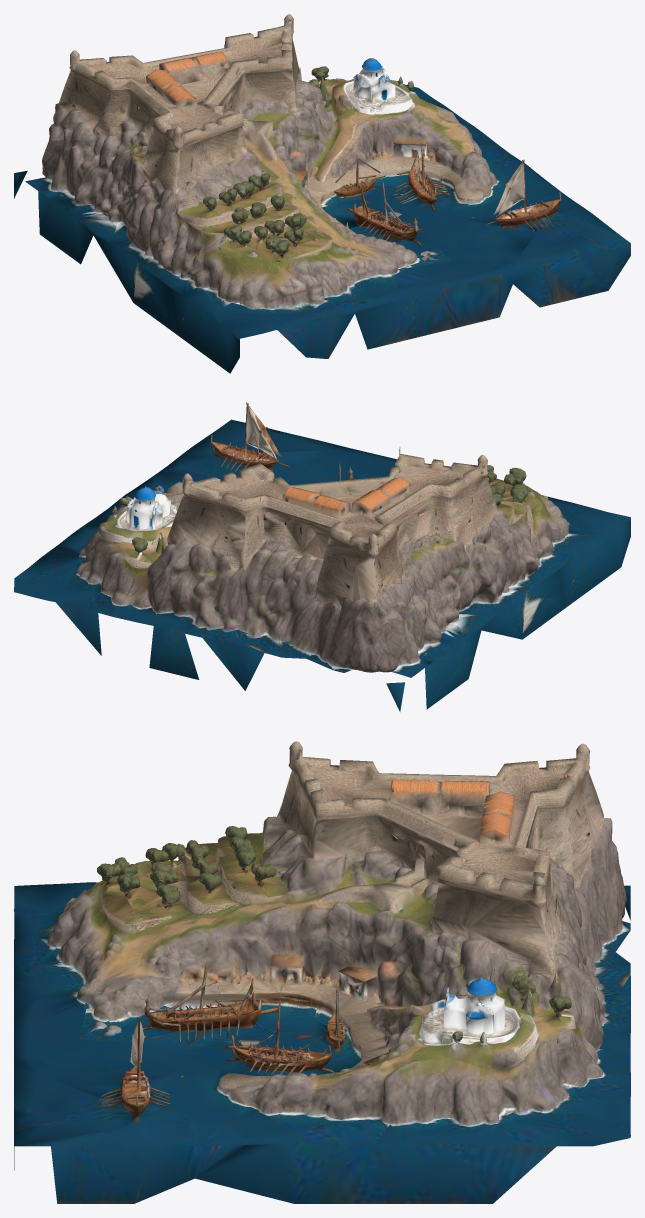
Rendered from m_gramvousa_animated.glb.
3 renders of one model, top to bottom at view 1: azimuth 30°, elevation 25°; view 2: azimuth 150°, elevation 25°; view 3: azimuth 270°, elevation 25°, orthographic. The views are drawn at different scales.
Visible parts, largest first — view 1: m_gramvousa_Living_Scenery; view 2: m_gramvousa_Living_Scenery; view 3: m_gramvousa_Living_Scenery.
Part boxes in pixels (box(x1,y1,x2,y2)): m_gramvousa_Living_Scenery: box(14, 14, 630, 373); m_gramvousa_Living_Scenery: box(14, 402, 630, 711); m_gramvousa_Living_Scenery: box(14, 741, 630, 1203).
Size of the model in its own units: 0.9361 by 0.3853 by 0.9362.
1 material, 1 textured.
